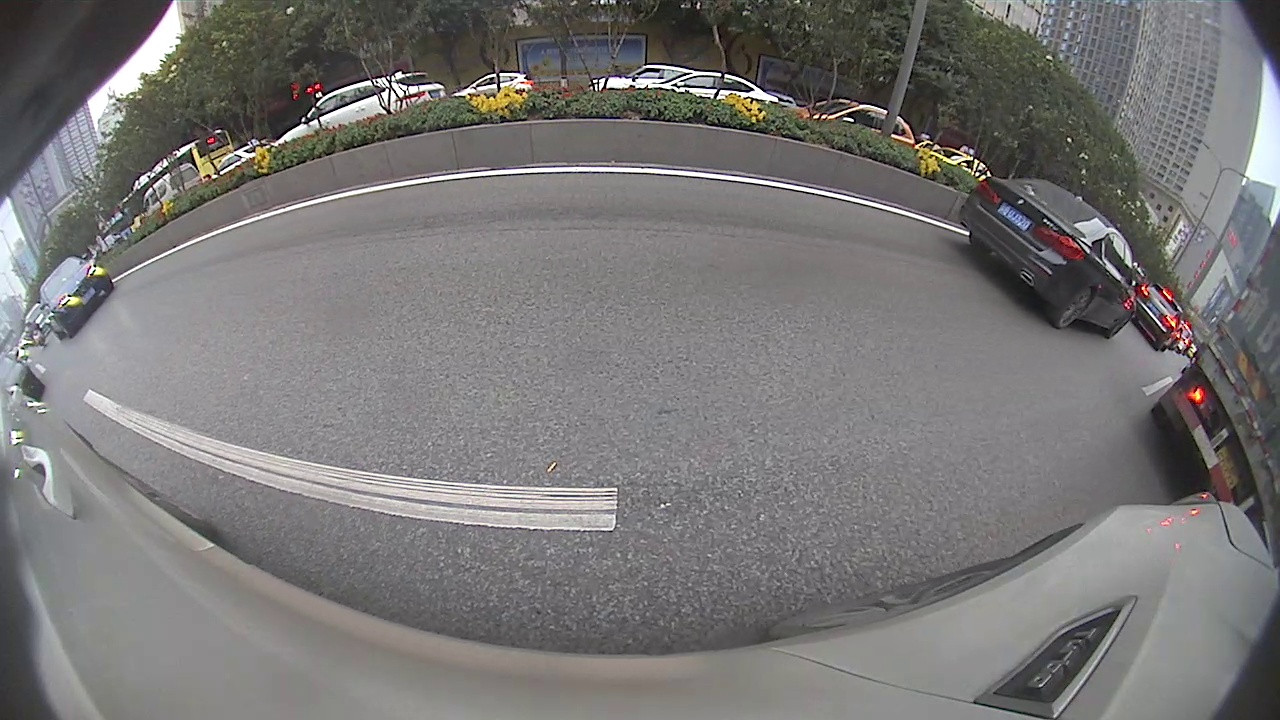car: (962, 170, 1138, 339), (36, 258, 114, 341), (1131, 285, 1182, 352)
rear: (1053, 286, 1094, 329)
